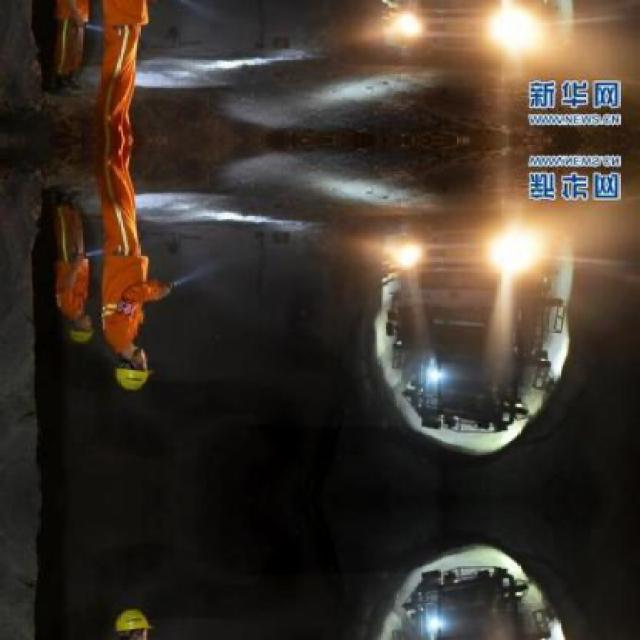con casco: (66, 300, 108, 350), (114, 342, 153, 394)
